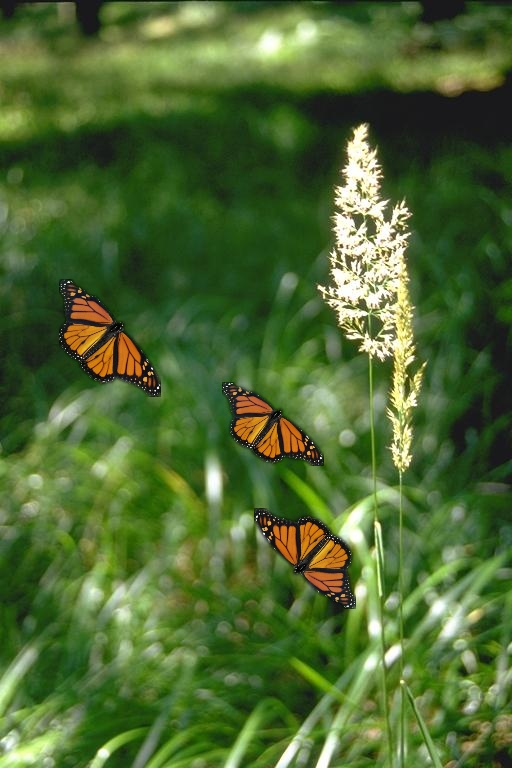danaus_plexippus: (59, 279, 161, 397), (254, 508, 356, 609), (222, 382, 324, 466)
